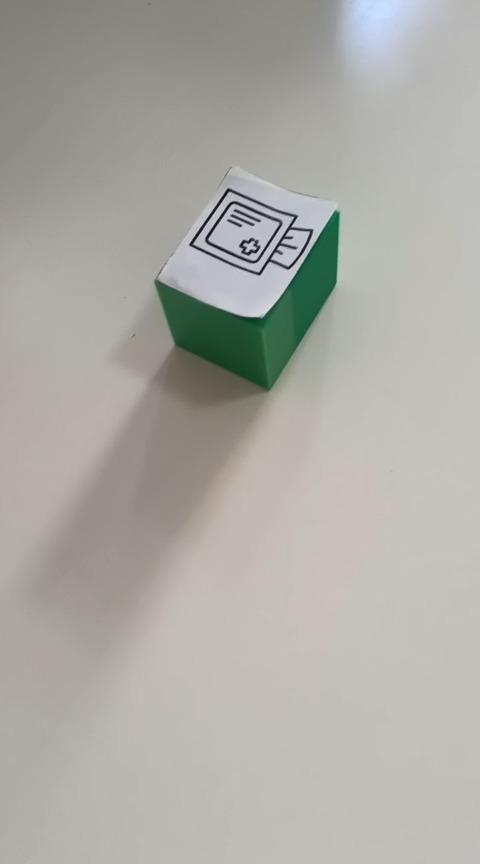Gauze: (153, 163, 340, 391)
